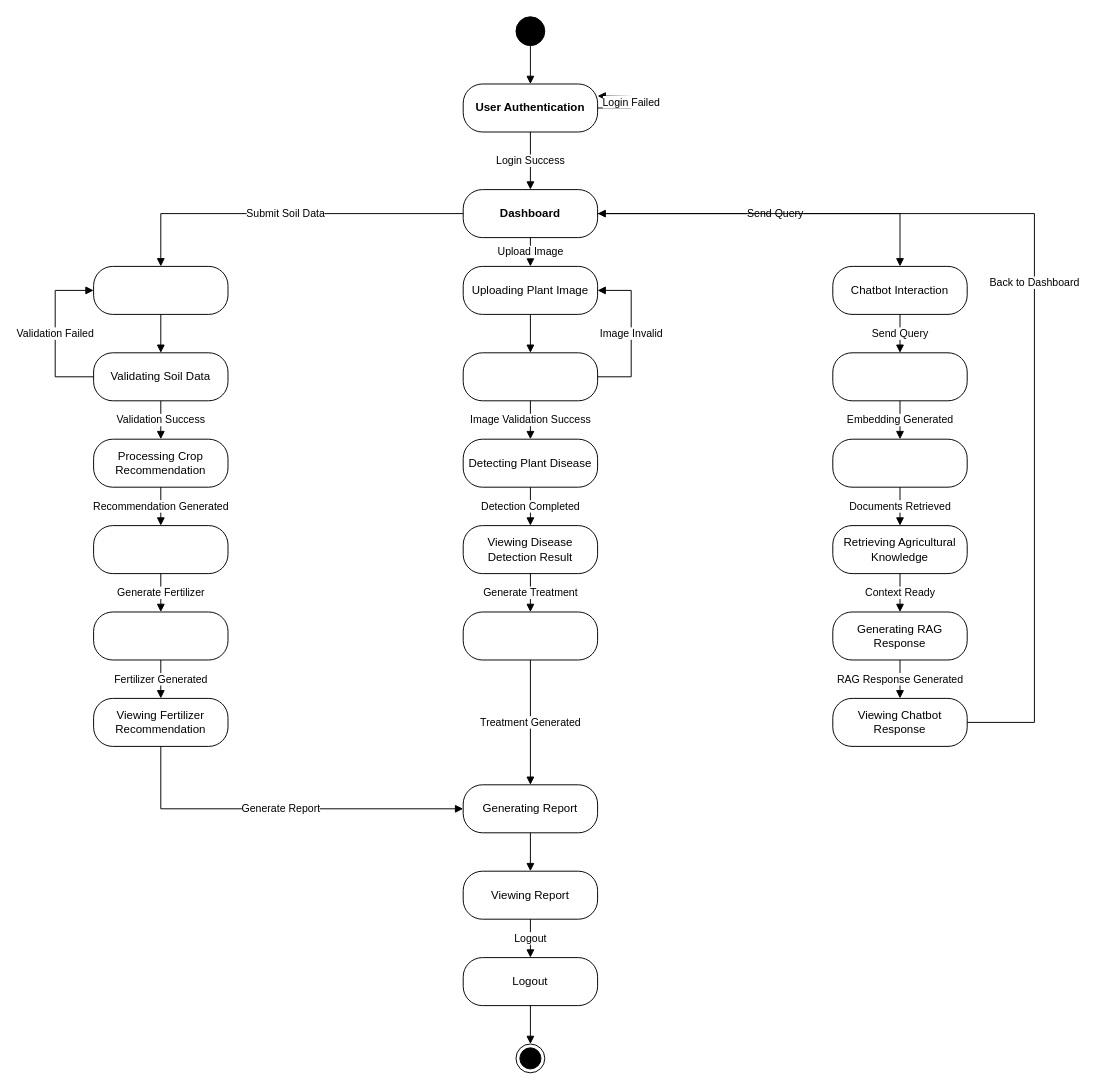
Some shapes in this 1096 by 1090 pixel diagram are drawn without their labels. The shapes that lost their labels are listed below. From the top down, each one's centre as x and y in pixels, then its label:
At point (160, 289): "Entering Soil Data".
At point (530, 376): "Validating Plant Image".
At point (899, 376): "Generating Embeddings".
At point (899, 462): "Searching Vector Database".
At point (160, 549): "Viewing Crop Recommendation".
At point (160, 635): "Processing Fertilizer Recommendation".
At point (530, 635): "Generating Treatment Recommendation".
